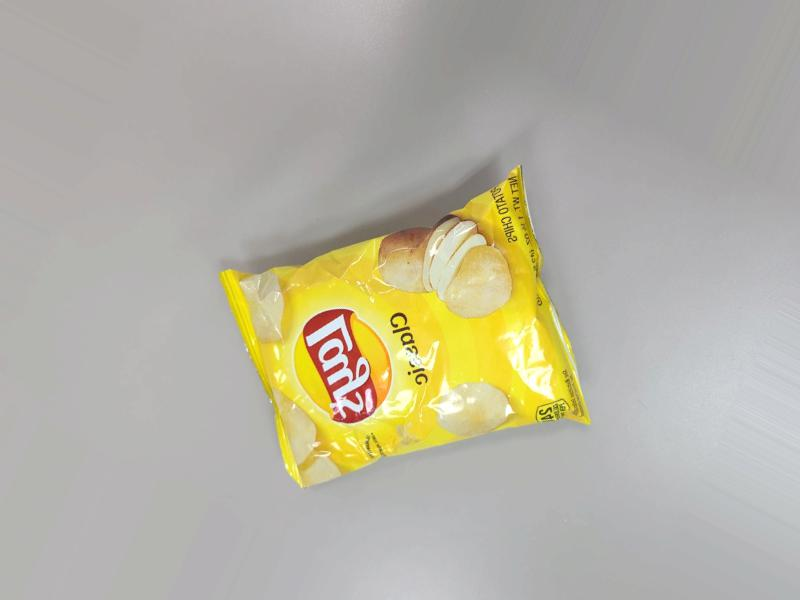lays: (224, 182, 590, 476)
